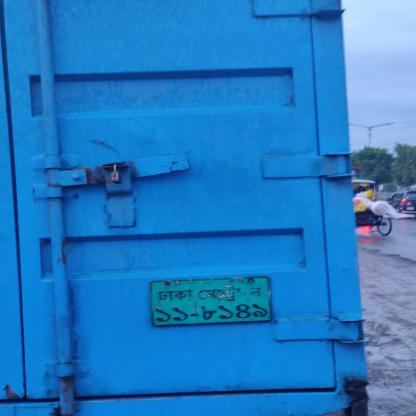license_plate: (143, 273, 275, 342)
